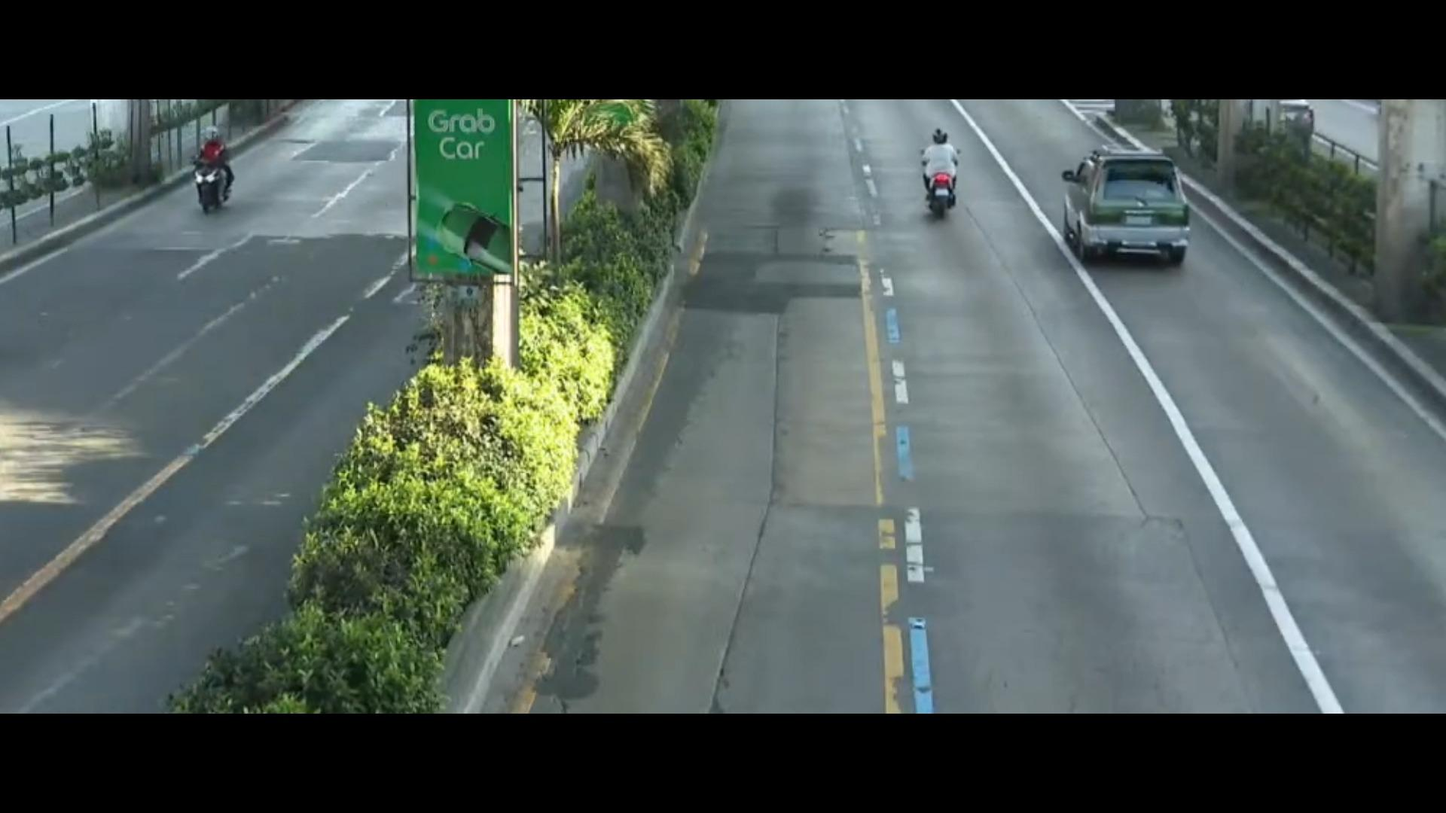Motorcycle: (166, 130, 260, 238), (895, 117, 964, 242)
SUV: (1048, 123, 1209, 295)
